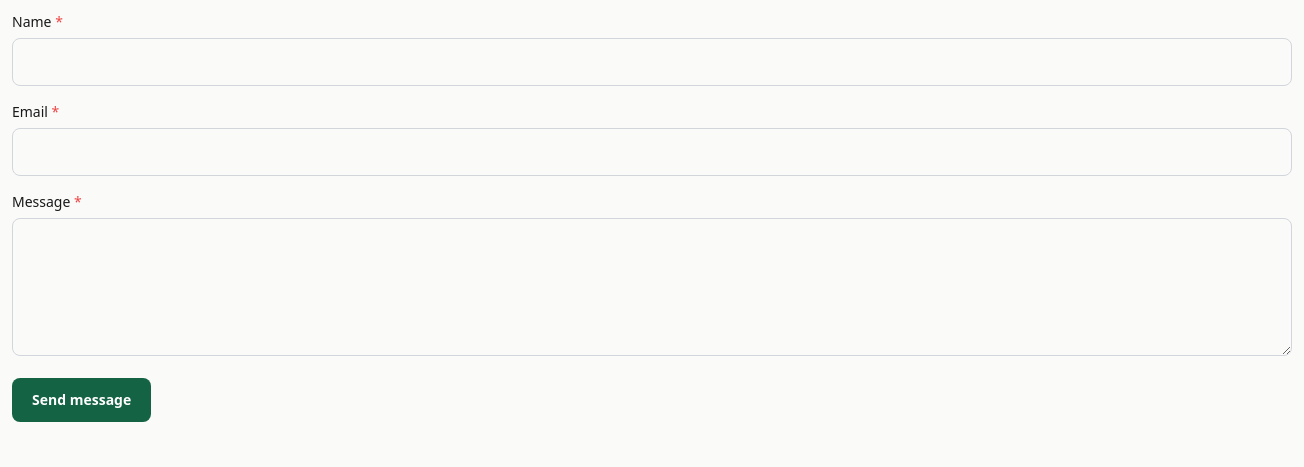
Test: ContactForm › submitWithInvalidEmail_showsEmailFormatError
This screenshot has width=1304, height=467.
Type "Jamie" into the field labelled "Name *" at [652, 62], box [12,38,1292,86]
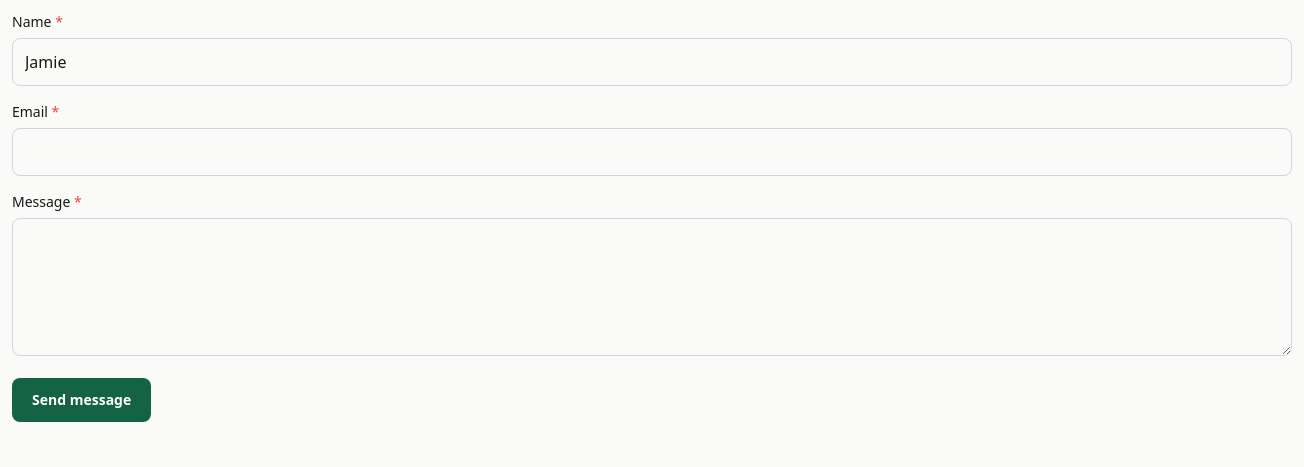
Type "not-an-email" into the field labelled "Email *" at [652, 152], box [12,128,1292,176]
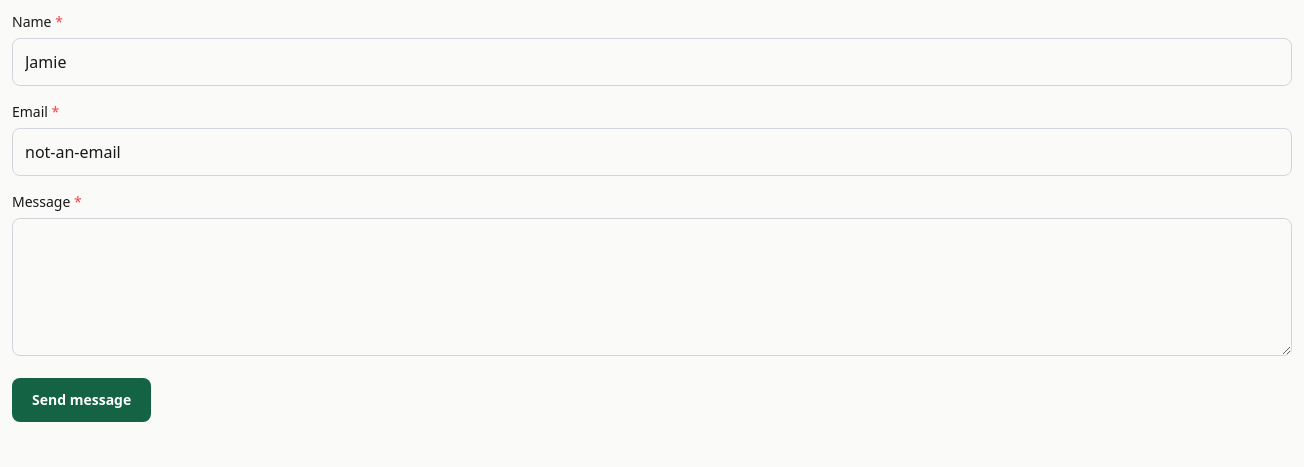
Type "Hello" into the text box labelled "Message *" at [652, 287], box [12,218,1292,356]
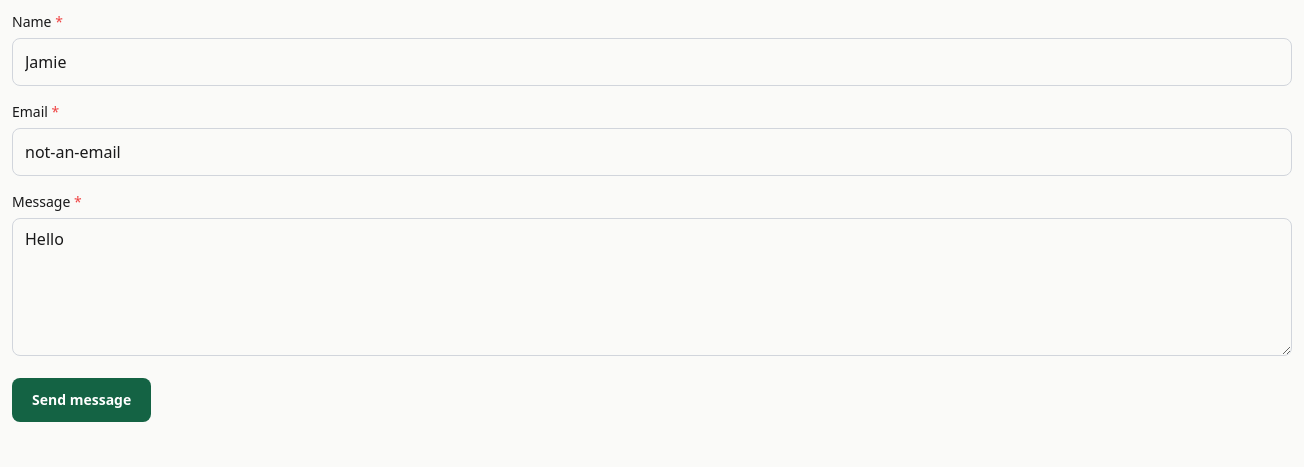
Click the button "Send message" at [82, 400], box [12,378,151,422]
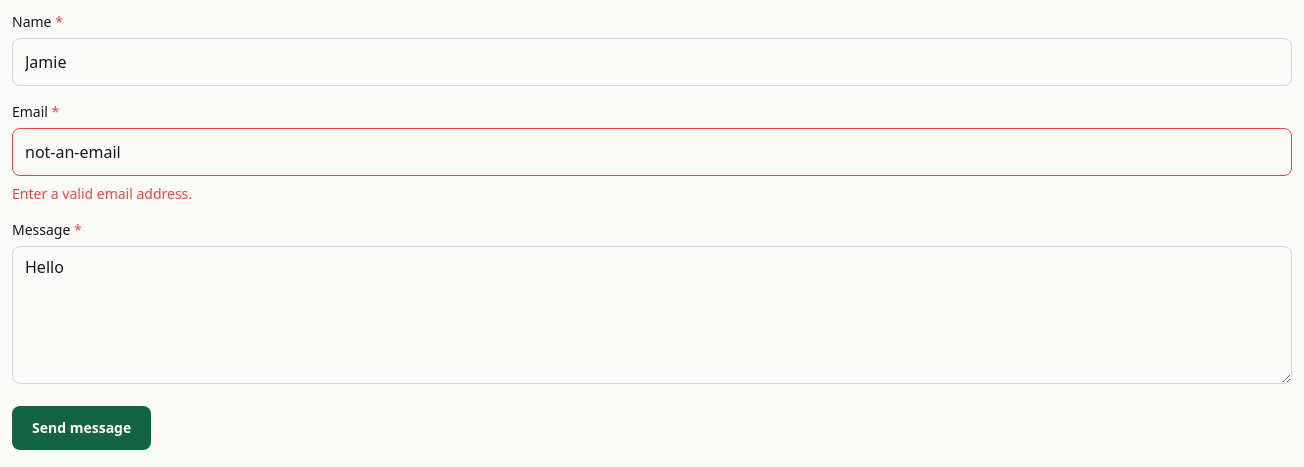
expect the text "Enter a valid email address." is shown: met, box [12,184,192,203]
